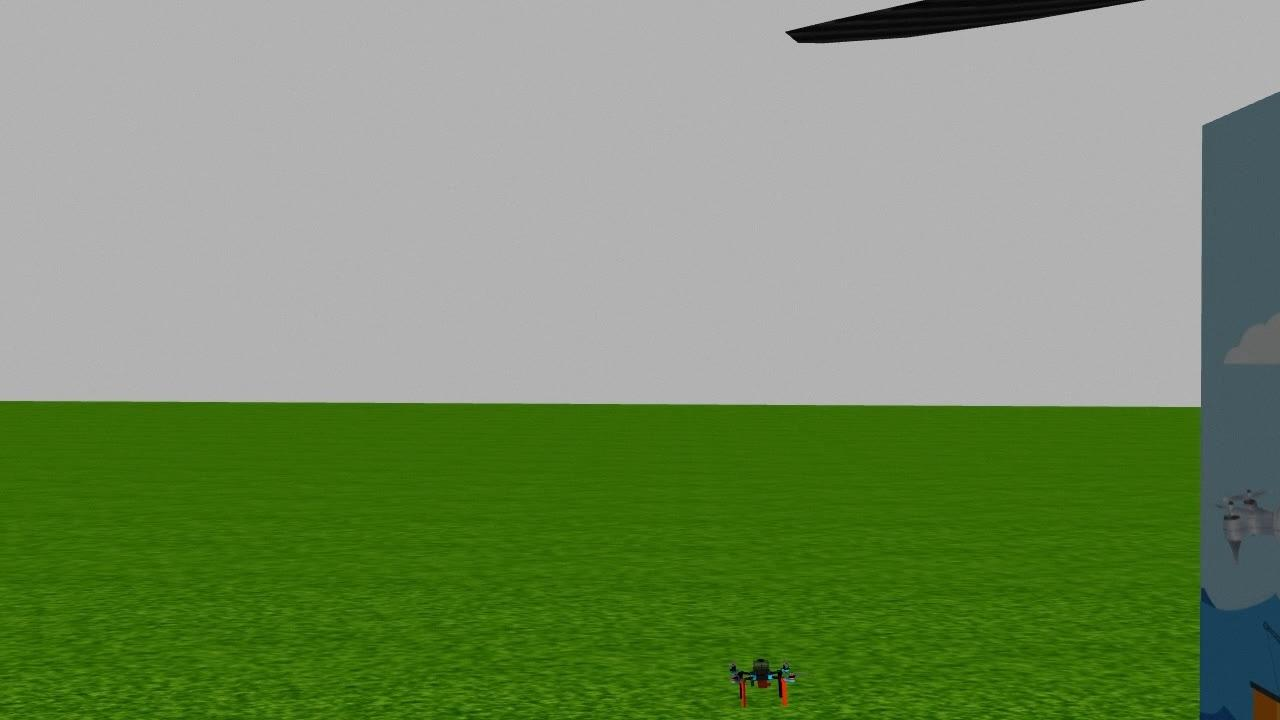UAV: (711, 644, 818, 714)
